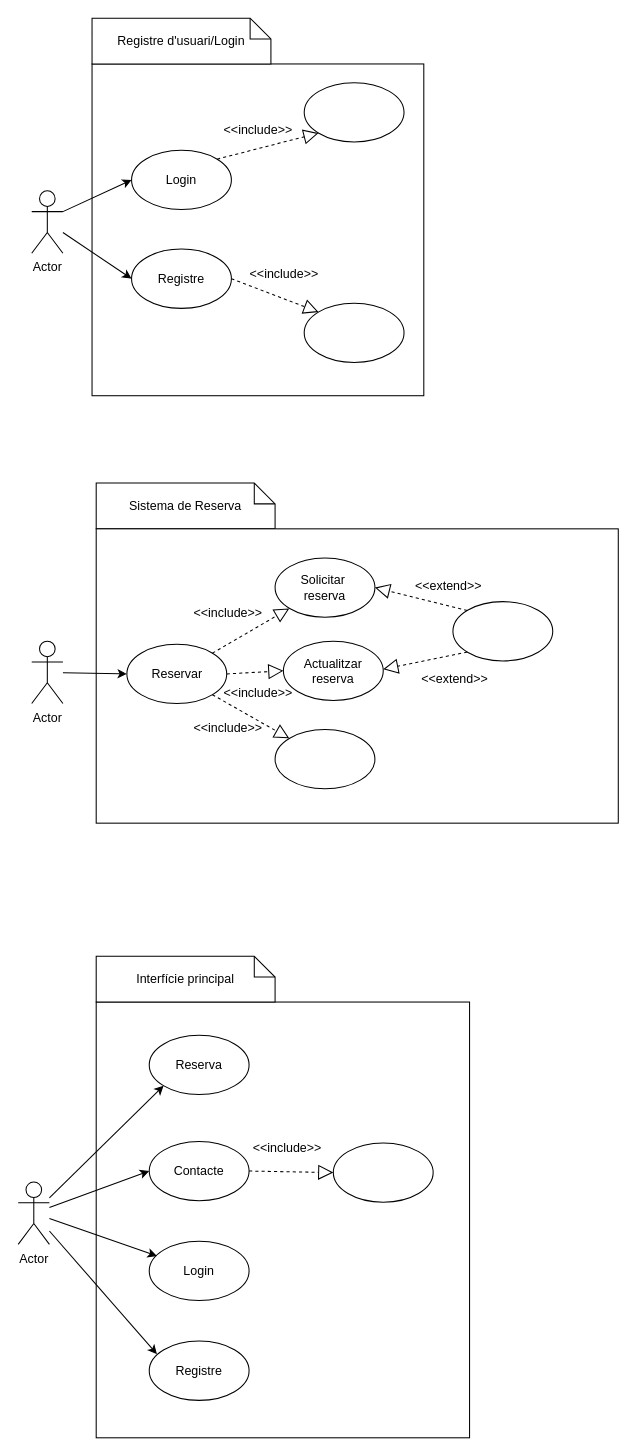
The diagram is 636 pixels wide and 1456 high, and some of its shapes have lost their labels. The centre of each missing label's shape, as x and y in pixels:
Autentificació: (353,112)
Cancelar cita: (324,759)
Enviar Mail: (382,1172)
Validació dels camps: (353,332)
Validar disponiblitat: (502,631)
